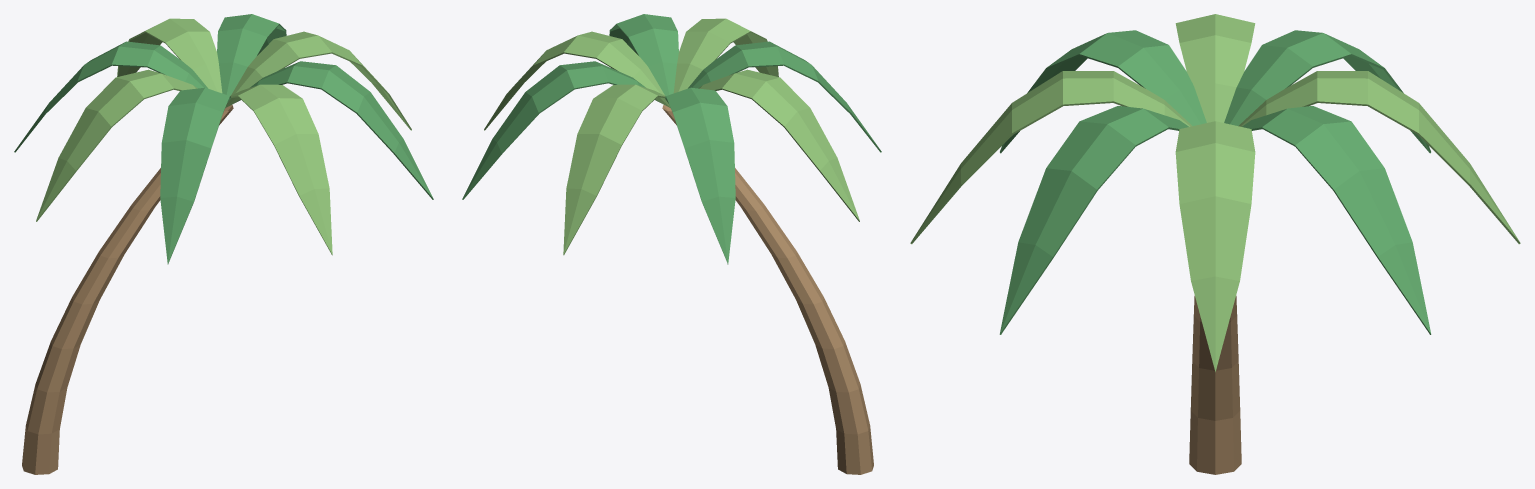
The model's file is CoastPalm.fbx.
The picture shows the model from 3 angles, left to right: view 1: azimuth 30°, elevation 25°; view 2: azimuth 150°, elevation 25°; view 3: azimuth 270°, elevation 25°; orthographic projection. The views are drawn at different scales.
Parts seen in each view (by area): view 1: CurvedTrunk, PalmFrond.005, PalmFrond.006, PalmFrond.004, PalmFrond.007, PalmFrond.002, PalmFrond, PalmFrond.001, PalmFrond.003; view 2: CurvedTrunk, PalmFrond.003, PalmFrond.002, PalmFrond.004, PalmFrond.001, PalmFrond.006, PalmFrond, PalmFrond.007, PalmFrond.005; view 3: PalmFrond, PalmFrond.007, PalmFrond.001, PalmFrond.006, PalmFrond.002, CurvedTrunk, PalmFrond.003, PalmFrond.005, PalmFrond.004.
Part boxes in pixels (x1,y1,x2,y2): CurvedTrunk: (22,105,233,474); PalmFrond.005: (160,87,230,264); PalmFrond.006: (225,84,332,255); PalmFrond.004: (36,69,197,221); PalmFrond.007: (234,61,433,199); PalmFrond.002: (117,18,222,93); PalmFrond: (231,31,411,130); PalmFrond.001: (217,14,286,95); PalmFrond.003: (14,41,207,152); CurvedTrunk: (662,105,873,474); PalmFrond.003: (665,87,735,264); PalmFrond.002: (563,84,670,255); PalmFrond.004: (698,69,859,221); PalmFrond.001: (462,61,661,199); PalmFrond.006: (673,18,778,93); PalmFrond: (484,31,664,130); PalmFrond.007: (609,14,678,95); PalmFrond.005: (688,41,881,152); PalmFrond: (1175,121,1255,372); PalmFrond.007: (999,106,1188,334); PalmFrond.001: (1242,106,1431,334); PalmFrond.006: (910,71,1192,244); PalmFrond.002: (1238,71,1520,244); CurvedTrunk: (1189,296,1241,474); PalmFrond.003: (1224,30,1430,153); PalmFrond.005: (1000,30,1206,153); PalmFrond.004: (1175,14,1255,122).
Size of the model in its own units: 7.43 by 6.66 by 7.2.
